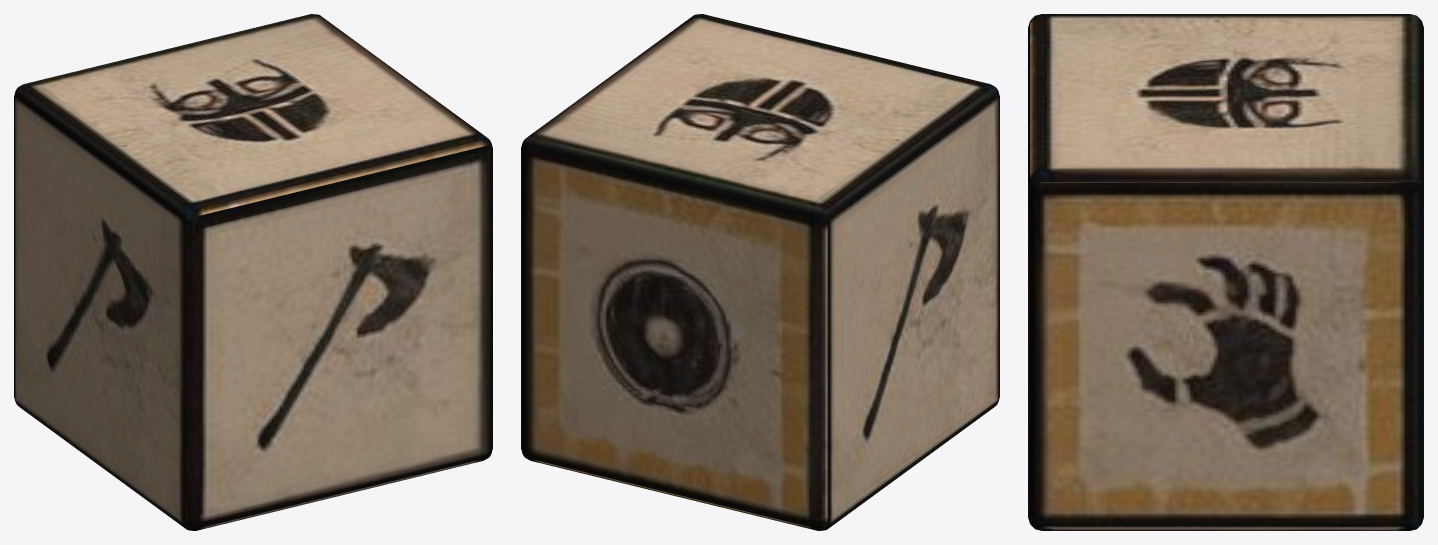
The model's file is dice2.glb.
3 renders of one model, left to right at view 1: azimuth 30°, elevation 25°; view 2: azimuth 150°, elevation 25°; view 3: azimuth 270°, elevation 25°, orthographic. The views are drawn at different scales.
Parts seen in each view (by area): view 1: Cube; view 2: Cube; view 3: Cube.
Boxes of the visible parts, x1,y1,x2,y2 form: Cube: (14,14,492,530); Cube: (521,14,999,530); Cube: (1028,14,1423,530).
Size of the model in its own units: 2 by 2 by 2.
1 material, 1 textured.
